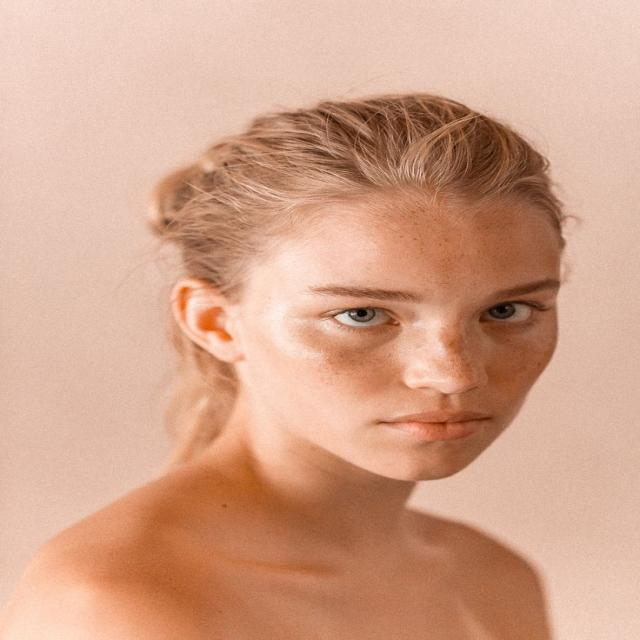earlobe: (208, 335, 244, 366)
eye: (331, 305, 403, 329), (477, 301, 543, 325)
nose: (411, 385, 492, 408)
wholeear: (169, 278, 244, 366)
